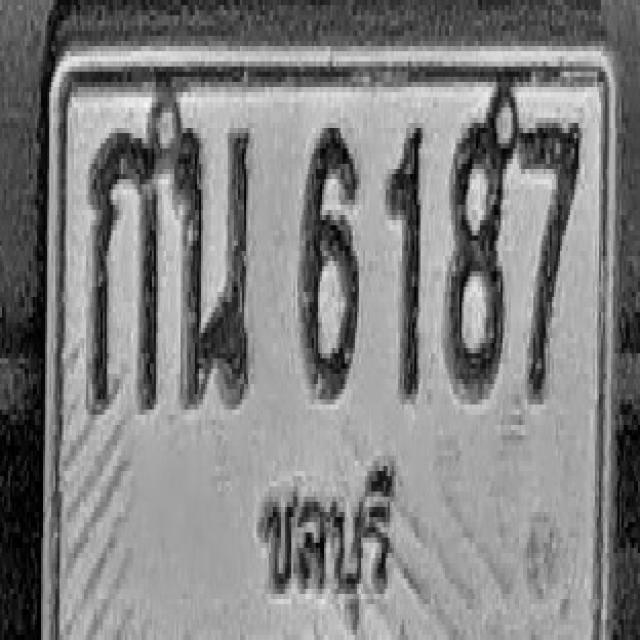1: (386, 120, 424, 402)
10GorGai: (89, 128, 161, 410)
34NorNu: (174, 120, 252, 407)
6: (301, 123, 360, 394)
7: (522, 118, 582, 399)
8: (447, 108, 513, 394)
Chonburi: (259, 445, 394, 620)
